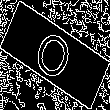O_SW: (31, 22, 79, 88)
